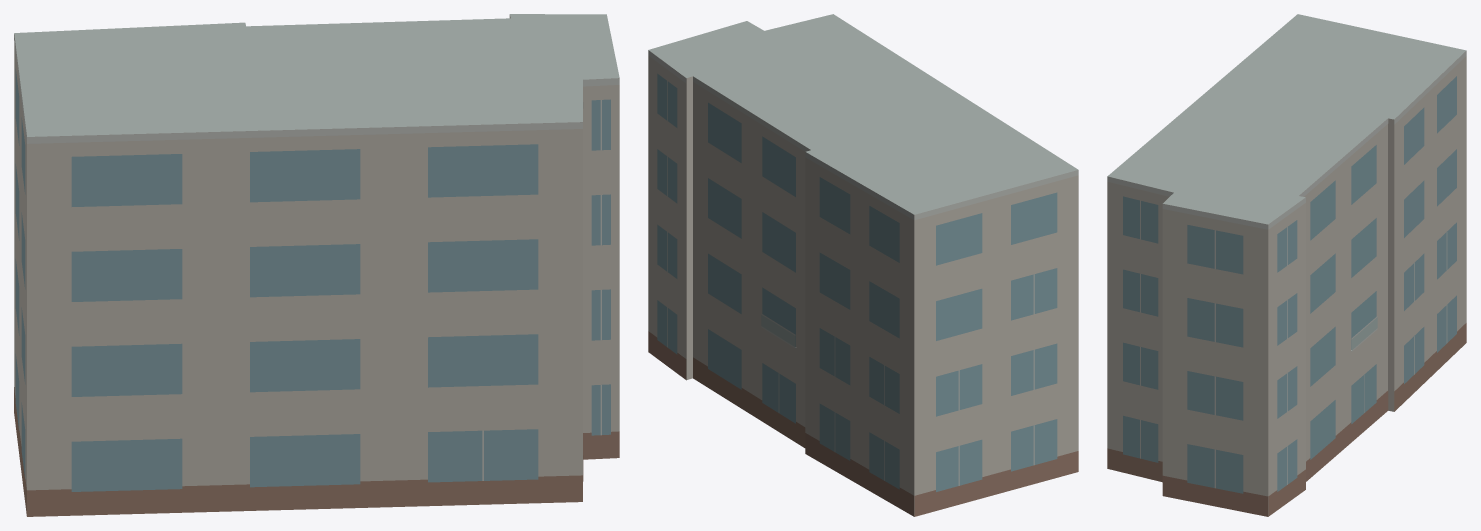
File: survey-upis-32749827.glb
3 renders of one model, left to right at view 1: azimuth 30°, elevation 25°; view 2: azimuth 150°, elevation 25°; view 3: azimuth 270°, elevation 25°, orthographic. The views are drawn at different scales.
Visible parts, largest first — view 1: survey-upis-32749827.tmp; view 2: survey-upis-32749827.tmp; view 3: survey-upis-32749827.tmp.
Boxes of the visible parts, <box> form: survey-upis-32749827.tmp: <box>14,14,619,516</box>; survey-upis-32749827.tmp: <box>648,14,1078,516</box>; survey-upis-32749827.tmp: <box>1107,14,1466,516</box>.
Bounding box in the file's own units: 20.86 × 13.5 × 15.04.
